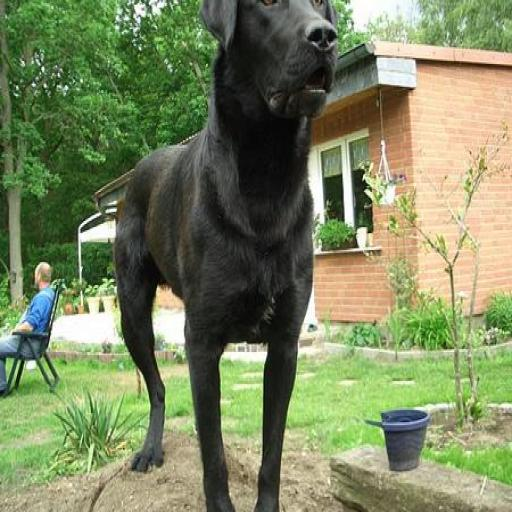dog_face: (207, 0, 336, 123)
